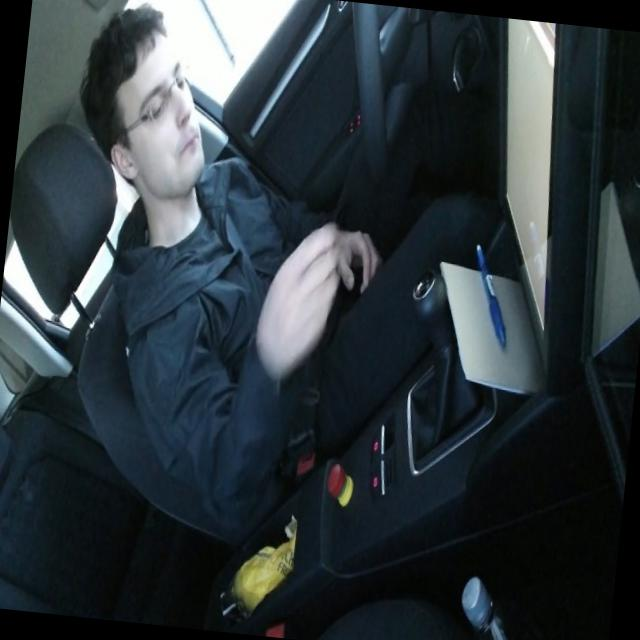pen: (464, 240, 516, 348)
